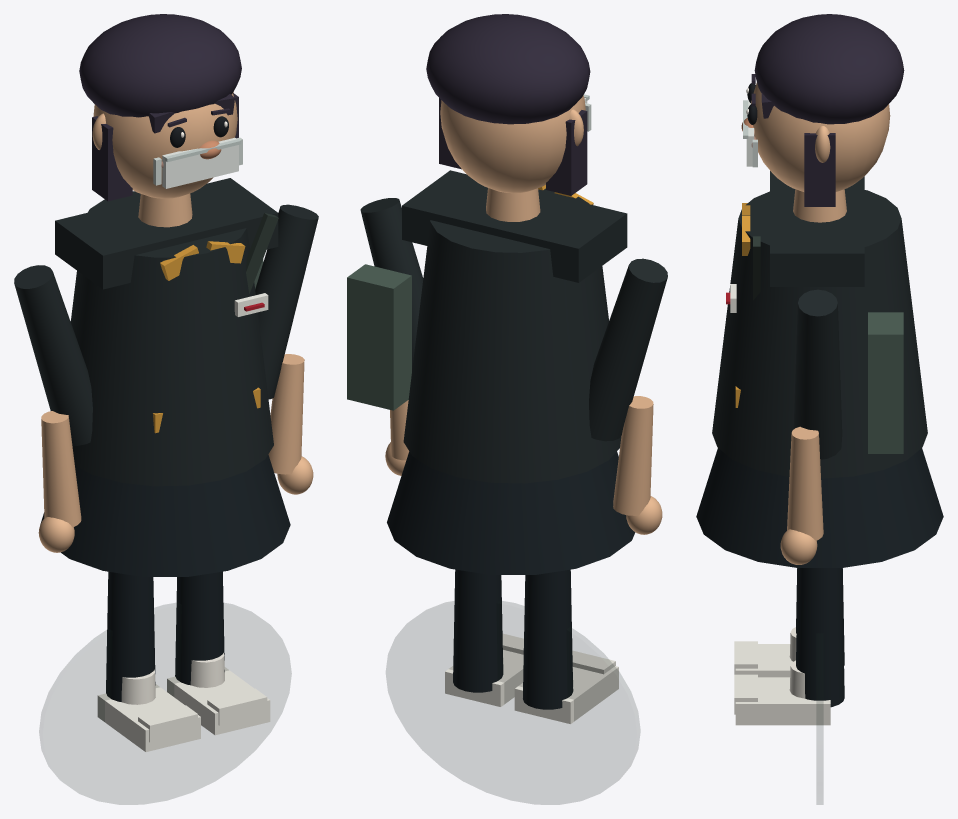
File: player_female_black_mask.glb
3 views of the same model, side by side, from view 1: azimuth 30°, elevation 25°; view 2: azimuth 150°, elevation 25°; view 3: azimuth 270°, elevation 25° (orthographic). The views are drawn at different scales.
Visible parts, largest first — view 1: torso, contact_shadow, skirt, hair_cap, shoulder_line, upper_arm_-0.235, upper_arm_0.235, head, leg_-0.075, leg_0.075, forearm_-0.235, forearm_0.235 (+13 smaller); view 2: torso, contact_shadow, skirt, hair_cap, shoulder_line, shoulder_bag, upper_arm_-0.235, head, leg_-0.075, leg_0.075, forearm_-0.235, upper_arm_0.235 (+7 smaller); view 3: torso, skirt, hair_cap, shoulder_line, upper_arm_0.235, head, leg_0.075, shoulder_bag, forearm_0.235, shoe_0.075, side_hair_0.115, shoe_-0.075 (+7 smaller).
Boxes of the visible parts, x1,y1,x2,y2 form: torso: (70,191,273,486); contact_shadow: (39,603,291,804); skirt: (40,454,290,576); hair_cap: (79,14,241,117); shoulder_line: (55,178,278,289); upper_arm_-0.235: (14,265,92,445); upper_arm_0.235: (255,204,318,399); head: (93,93,237,198); leg_-0.075: (106,571,155,701); leg_0.075: (175,571,224,685); forearm_-0.235: (41,411,81,527); forearm_0.235: (268,354,304,474); torso: (403,188,621,483); contact_shadow: (386,601,639,804); skirt: (387,451,635,574); hair_cap: (426,14,590,124); shoulder_line: (402,170,627,282); shoulder_bag: (347,264,411,410); upper_arm_-0.235: (589,258,667,441); head: (440,95,585,193); leg_-0.075: (523,569,573,709); leg_0.075: (453,569,503,692); forearm_-0.235: (613,396,653,515); upper_arm_0.235: (360,198,423,370); torso: (712,190,927,478); skirt: (696,448,943,567); hair_cap: (754,14,904,124); shoulder_line: (770,171,864,286); upper_arm_0.235: (793,289,842,459); head: (751,82,890,191); leg_0.075: (796,568,844,707); shoulder_bag: (868,312,903,453); forearm_0.235: (787,426,823,540); shoe_0.075: (735,677,830,725); side_hair_0.115: (804,133,835,206); shoe_-0.075: (735,644,792,677).
Size of the model in its own units: 0.636 by 1.56 by 0.4606.
